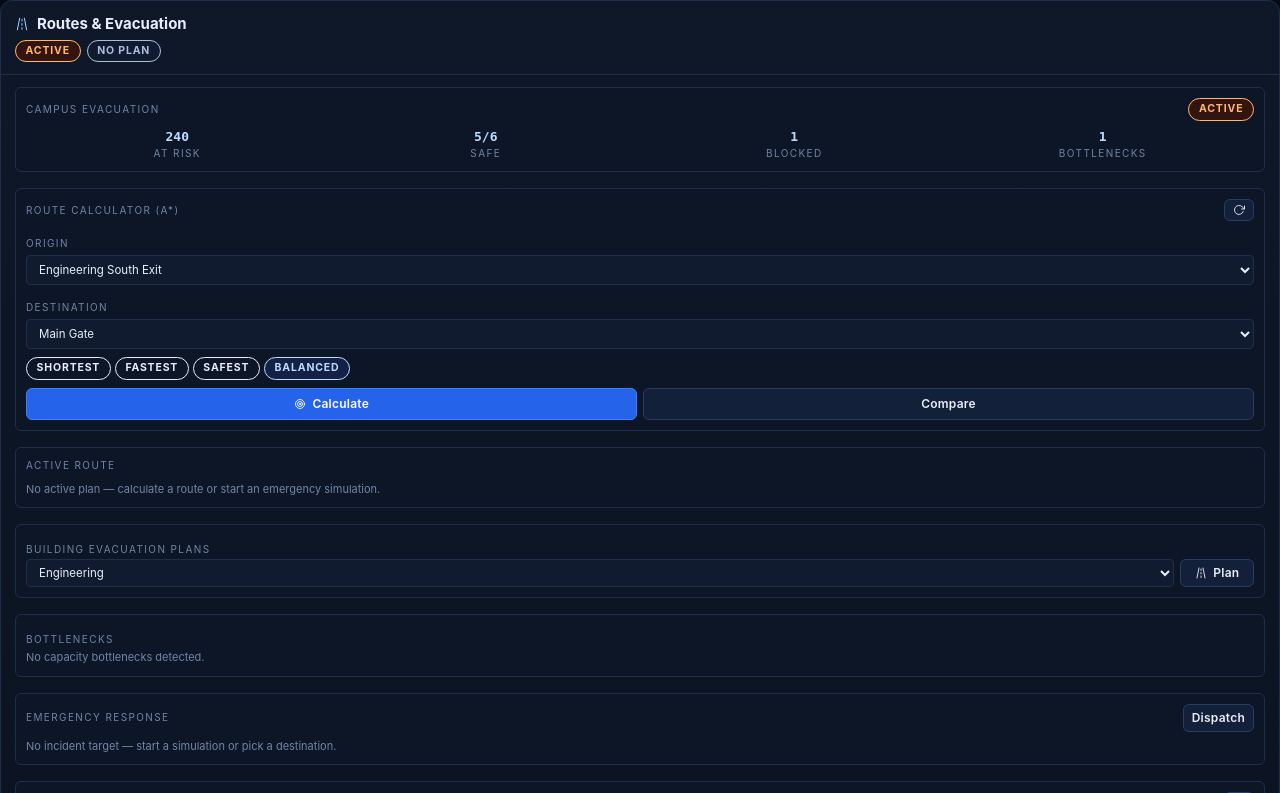
RoutePanel › Compare loads the cross-mode comparison table
Click the button "Compare" at (948, 404), box 643,388 -> 1254,420
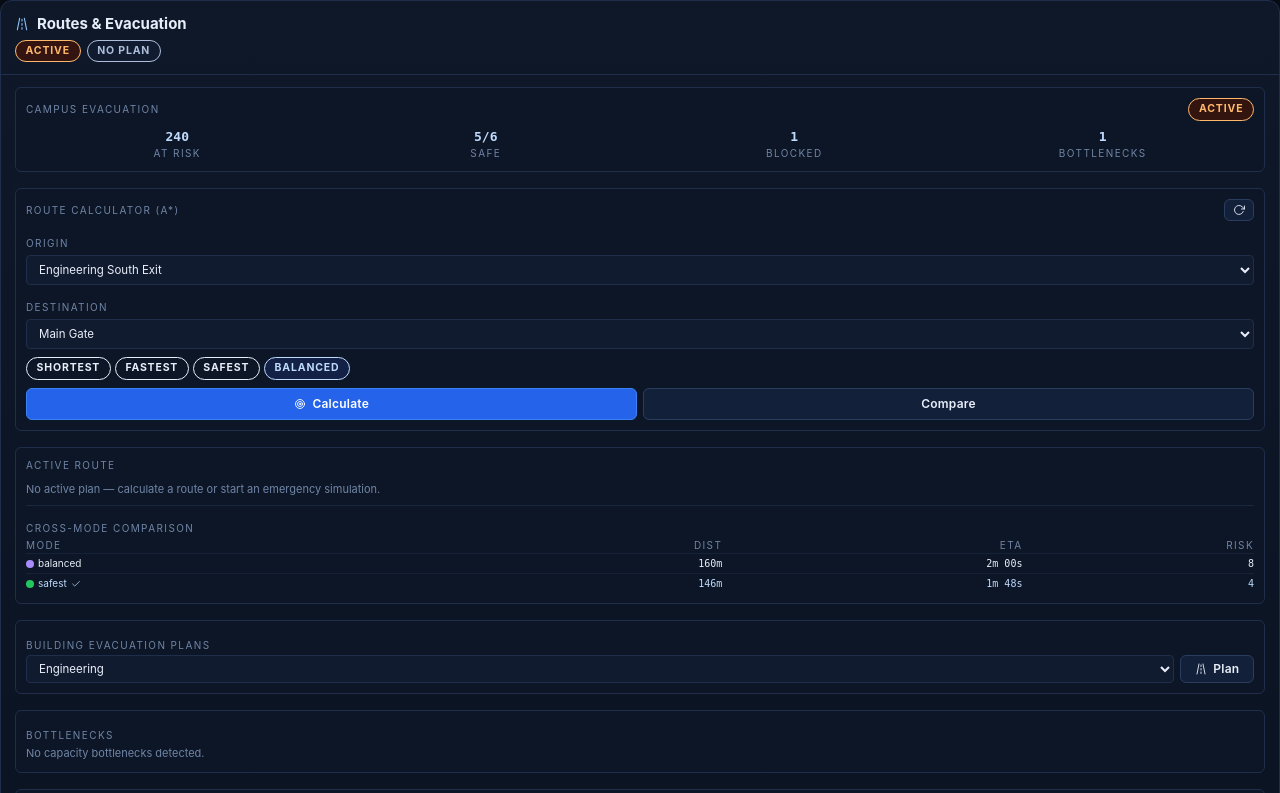
Result: the text "Cross-mode comparison" is shown at 26,522 -> 194,534
